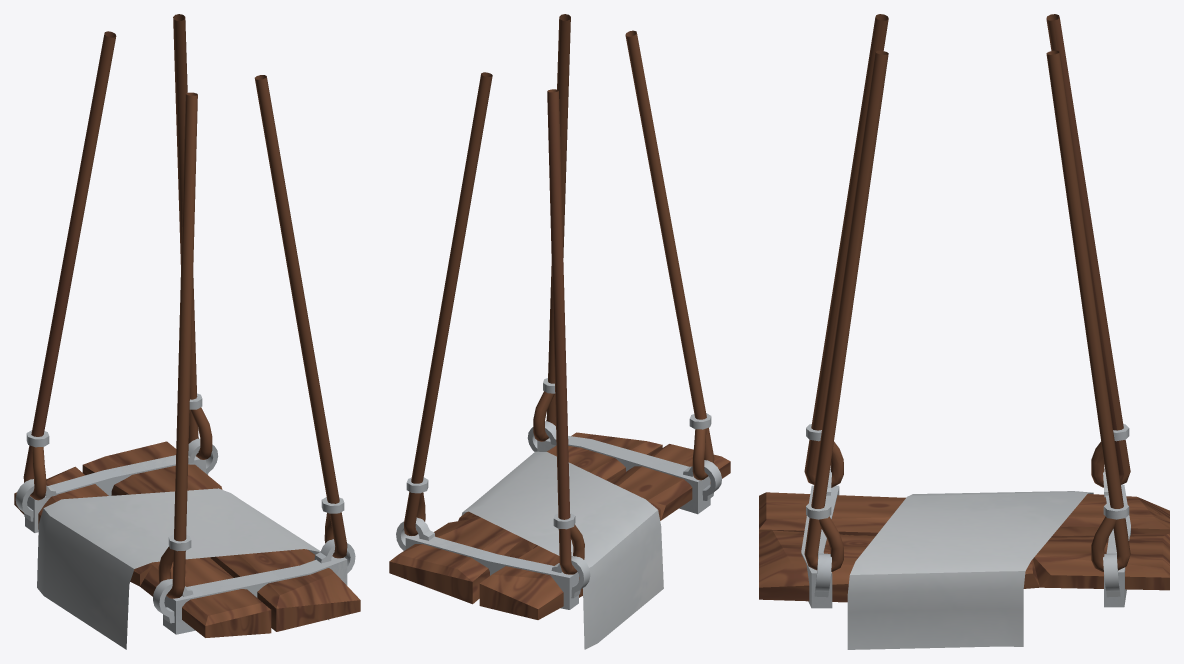
The model's file is SM_Hamac.fbx.
3 renders of one model, left to right at view 1: azimuth 30°, elevation 25°; view 2: azimuth 150°, elevation 25°; view 3: azimuth 270°, elevation 25°, orthographic. The views are drawn at different scales.
Visible parts, largest first — view 1: SM_Hamac; view 2: SM_Hamac; view 3: SM_Hamac.
Boxes of the visible parts, bbox=[...] form: SM_Hamac: bbox=[14, 14, 360, 649]; SM_Hamac: bbox=[389, 14, 730, 649]; SM_Hamac: bbox=[759, 14, 1169, 649].
Size of the model in its own units: 104 by 282 by 180.
